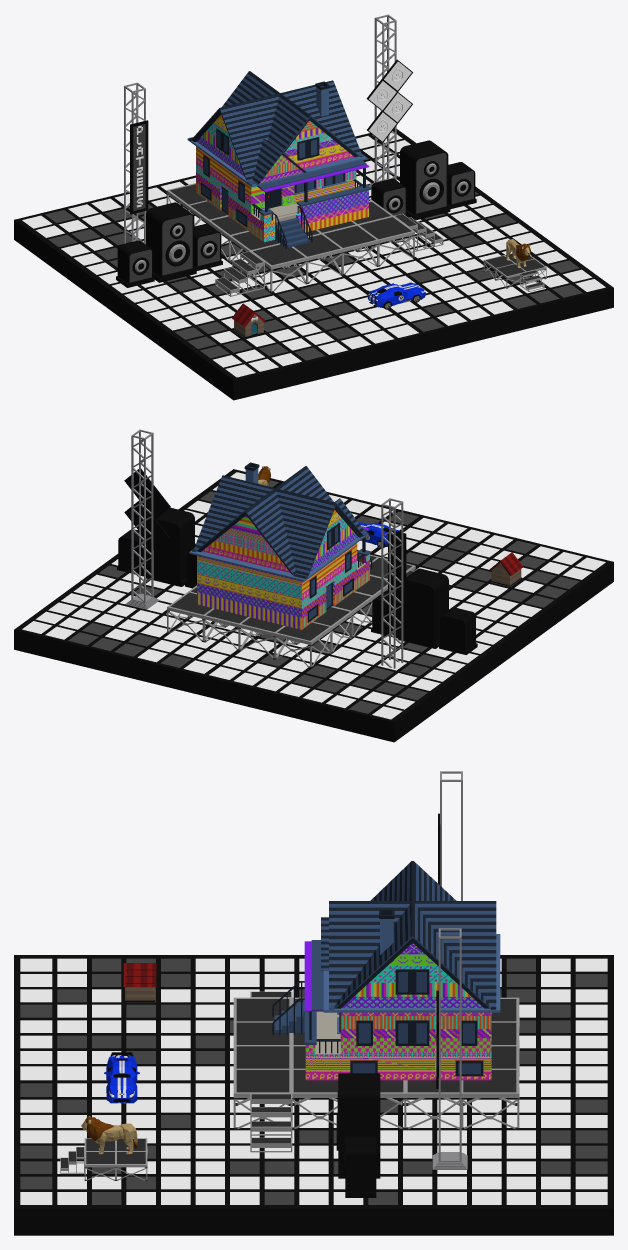
3 renders of one model, top to bottom at view 1: azimuth 30°, elevation 25°; view 2: azimuth 150°, elevation 25°; view 3: azimuth 270°, elevation 25°, orthographic. The views are drawn at different scales.
Parts seen in each view (by area): view 1: Cube.008, Cube.676, VEHICLES_RACING_CAR, OBJRANDOM_DOGHOUSE; view 2: Cube.008, Cube.676, OBJRANDOM_DOGHOUSE, VEHICLES_RACING_CAR; view 3: Cube.008, Cube.676, VEHICLES_RACING_CAR, OBJRANDOM_DOGHOUSE, ANIMAL_LEON.
Boxes of the visible parts, bbox=[...] form: Cube.008: bbox=[14, 14, 613, 400]; Cube.676: bbox=[187, 71, 371, 248]; VEHICLES_RACING_CAR: bbox=[367, 282, 425, 309]; OBJRANDOM_DOGHOUSE: bbox=[232, 303, 265, 337]; Cube.008: bbox=[14, 429, 613, 742]; Cube.676: bbox=[189, 462, 372, 629]; OBJRANDOM_DOGHOUSE: bbox=[489, 552, 523, 586]; VEHICLES_RACING_CAR: bbox=[358, 521, 400, 548]; Cube.008: bbox=[14, 771, 613, 1235]; Cube.676: bbox=[272, 861, 500, 1080]; VEHICLES_RACING_CAR: bbox=[104, 1052, 139, 1103]; OBJRANDOM_DOGHOUSE: bbox=[123, 963, 156, 1001]; ANIMAL_LEON: bbox=[81, 1116, 137, 1155].
Bounding box in the file's own units: 4000 × 2124 × 4000.
Materials: 45 (5 with a texture image).
